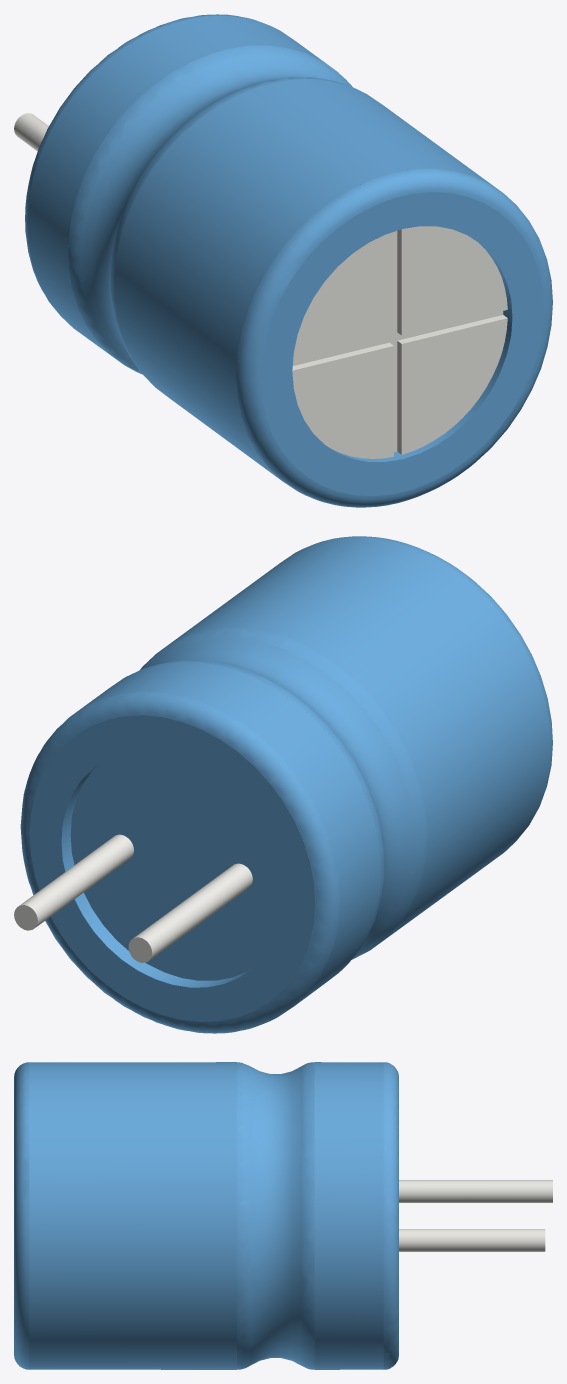
File: C_Radial_D4.0mm_H5.0mm_P1.50mm.glb
The picture shows the model from 3 angles, top to bottom: view 1: azimuth 30°, elevation 25°; view 2: azimuth 150°, elevation 25°; view 3: azimuth 270°, elevation 25°; orthographic projection. The views are drawn at different scales.
Parts seen in each view (by area): view 1: Shape_IndexedFaceSet.012, Shape_IndexedFaceSet.014, Shape_IndexedFaceSet.008, Shape_IndexedFaceSet.013, Shape_IndexedFaceSet.010, Shape_IndexedFaceSet.018, Shape_IndexedFaceSet.027, Shape_IndexedFaceSet.021, Shape_IndexedFaceSet.024, Shape_IndexedFaceSet.009, Shape_IndexedFaceSet.011, Shape_IndexedFaceSet.016 (+3 smaller); view 2: Shape_IndexedFaceSet.012, Shape_IndexedFaceSet.002, Shape_IndexedFaceSet.005, Shape_IndexedFaceSet.008, Shape_IndexedFaceSet.007, Shape_IndexedFaceSet.010, Shape_IndexedFaceSet.011, Shape_IndexedFaceSet.004, Shape_IndexedFaceSet.001, Shape_IndexedFaceSet.003, Shape_IndexedFaceSet.009, Shape_IndexedFaceSet.013; view 3: Shape_IndexedFaceSet.012, Shape_IndexedFaceSet.008, Shape_IndexedFaceSet.010, Shape_IndexedFaceSet.007, Shape_IndexedFaceSet.013, Shape_IndexedFaceSet.009, Shape_IndexedFaceSet.011, Shape_IndexedFaceSet.004, Shape_IndexedFaceSet.001.
Part boxes in pixels (x1=…): Shape_IndexedFaceSet.012: x1=114, y1=79, x2=501, y2=480; Shape_IndexedFaceSet.014: x1=261, y1=192, x2=543, y2=496; Shape_IndexedFaceSet.008: x1=27, y1=15, x2=332, y2=360; Shape_IndexedFaceSet.013: x1=236, y1=168, x2=552, y2=507; Shape_IndexedFaceSet.010: x1=80, y1=55, x2=344, y2=367; Shape_IndexedFaceSet.018: x1=401, y1=318, x2=507, y2=454; Shape_IndexedFaceSet.027: x1=401, y1=226, x2=507, y2=335; Shape_IndexedFaceSet.021: x1=292, y1=346, x2=393, y2=458; Shape_IndexedFaceSet.024: x1=293, y1=232, x2=393, y2=361; Shape_IndexedFaceSet.009: x1=68, y1=45, x2=352, y2=374; Shape_IndexedFaceSet.011: x1=110, y1=77, x2=361, y2=382; Shape_IndexedFaceSet.016: x1=292, y1=231, x2=503, y2=452; Shape_IndexedFaceSet.012: x1=159, y1=537, x2=550, y2=946; Shape_IndexedFaceSet.002: x1=70, y1=749, x2=283, y2=980; Shape_IndexedFaceSet.005: x1=29, y1=715, x2=314, y2=1021; Shape_IndexedFaceSet.008: x1=74, y1=661, x2=380, y2=1005; Shape_IndexedFaceSet.007: x1=20, y1=691, x2=339, y2=1033; Shape_IndexedFaceSet.010: x1=147, y1=638, x2=414, y2=952; Shape_IndexedFaceSet.011: x1=139, y1=627, x2=426, y2=959; Shape_IndexedFaceSet.004: x1=134, y1=863, x2=252, y2=960; Shape_IndexedFaceSet.001: x1=20, y1=834, x2=133, y2=927; Shape_IndexedFaceSet.003: x1=61, y1=763, x2=252, y2=987; Shape_IndexedFaceSet.009: x1=145, y1=659, x2=384, y2=987; Shape_IndexedFaceSet.013: x1=299, y1=536, x2=552, y2=850; Shape_IndexedFaceSet.012: x1=29, y1=1062, x2=236, y2=1369; Shape_IndexedFaceSet.008: x1=314, y1=1062, x2=383, y2=1369; Shape_IndexedFaceSet.010: x1=250, y1=1066, x2=301, y2=1365; Shape_IndexedFaceSet.007: x1=383, y1=1062, x2=398, y2=1369; Shape_IndexedFaceSet.013: x1=14, y1=1062, x2=29, y2=1369; Shape_IndexedFaceSet.009: x1=301, y1=1062, x2=314, y2=1369; Shape_IndexedFaceSet.011: x1=237, y1=1062, x2=250, y2=1369; Shape_IndexedFaceSet.004: x1=399, y1=1180, x2=552, y2=1202; Shape_IndexedFaceSet.001: x1=399, y1=1229, x2=545, y2=1251.
Size of the model in its own units: 1.57 by 1.57 by 2.76.
